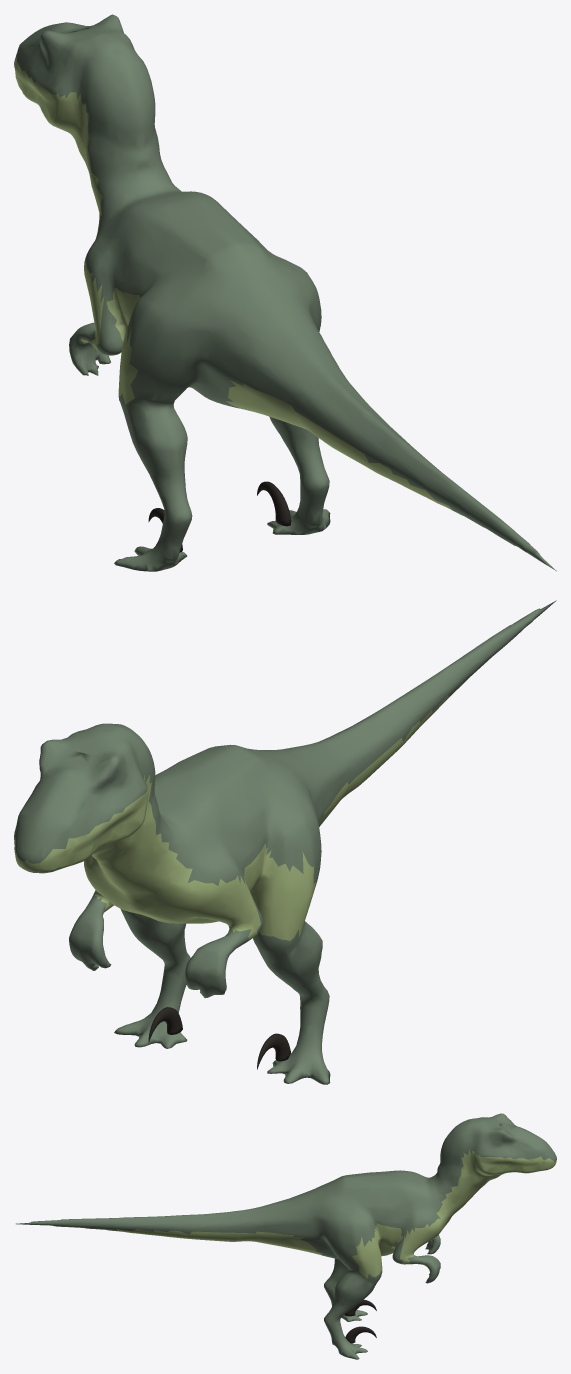
Rendered from deinonychus.glb.
3 renders of one model, top to bottom at view 1: azimuth 30°, elevation 25°; view 2: azimuth 150°, elevation 25°; view 3: azimuth 270°, elevation 25°, orthographic. The views are drawn at different scales.
Visible parts, largest first — view 1: Mesh_0; view 2: Mesh_0; view 3: Mesh_0.
Part boxes in pixels (box(x1,y1,x2,y2)): Mesh_0: box(14, 14, 556, 571); Mesh_0: box(14, 600, 556, 1084); Mesh_0: box(16, 1113, 556, 1359).
Bounding box in the file's own units: 0.6925 × 1.28 × 2.97.
